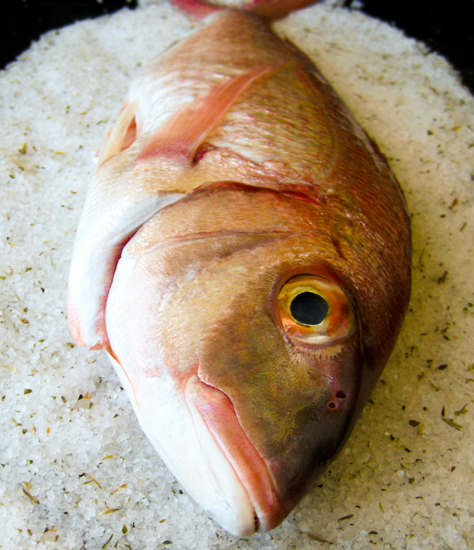fish: (60, 0, 414, 539)
